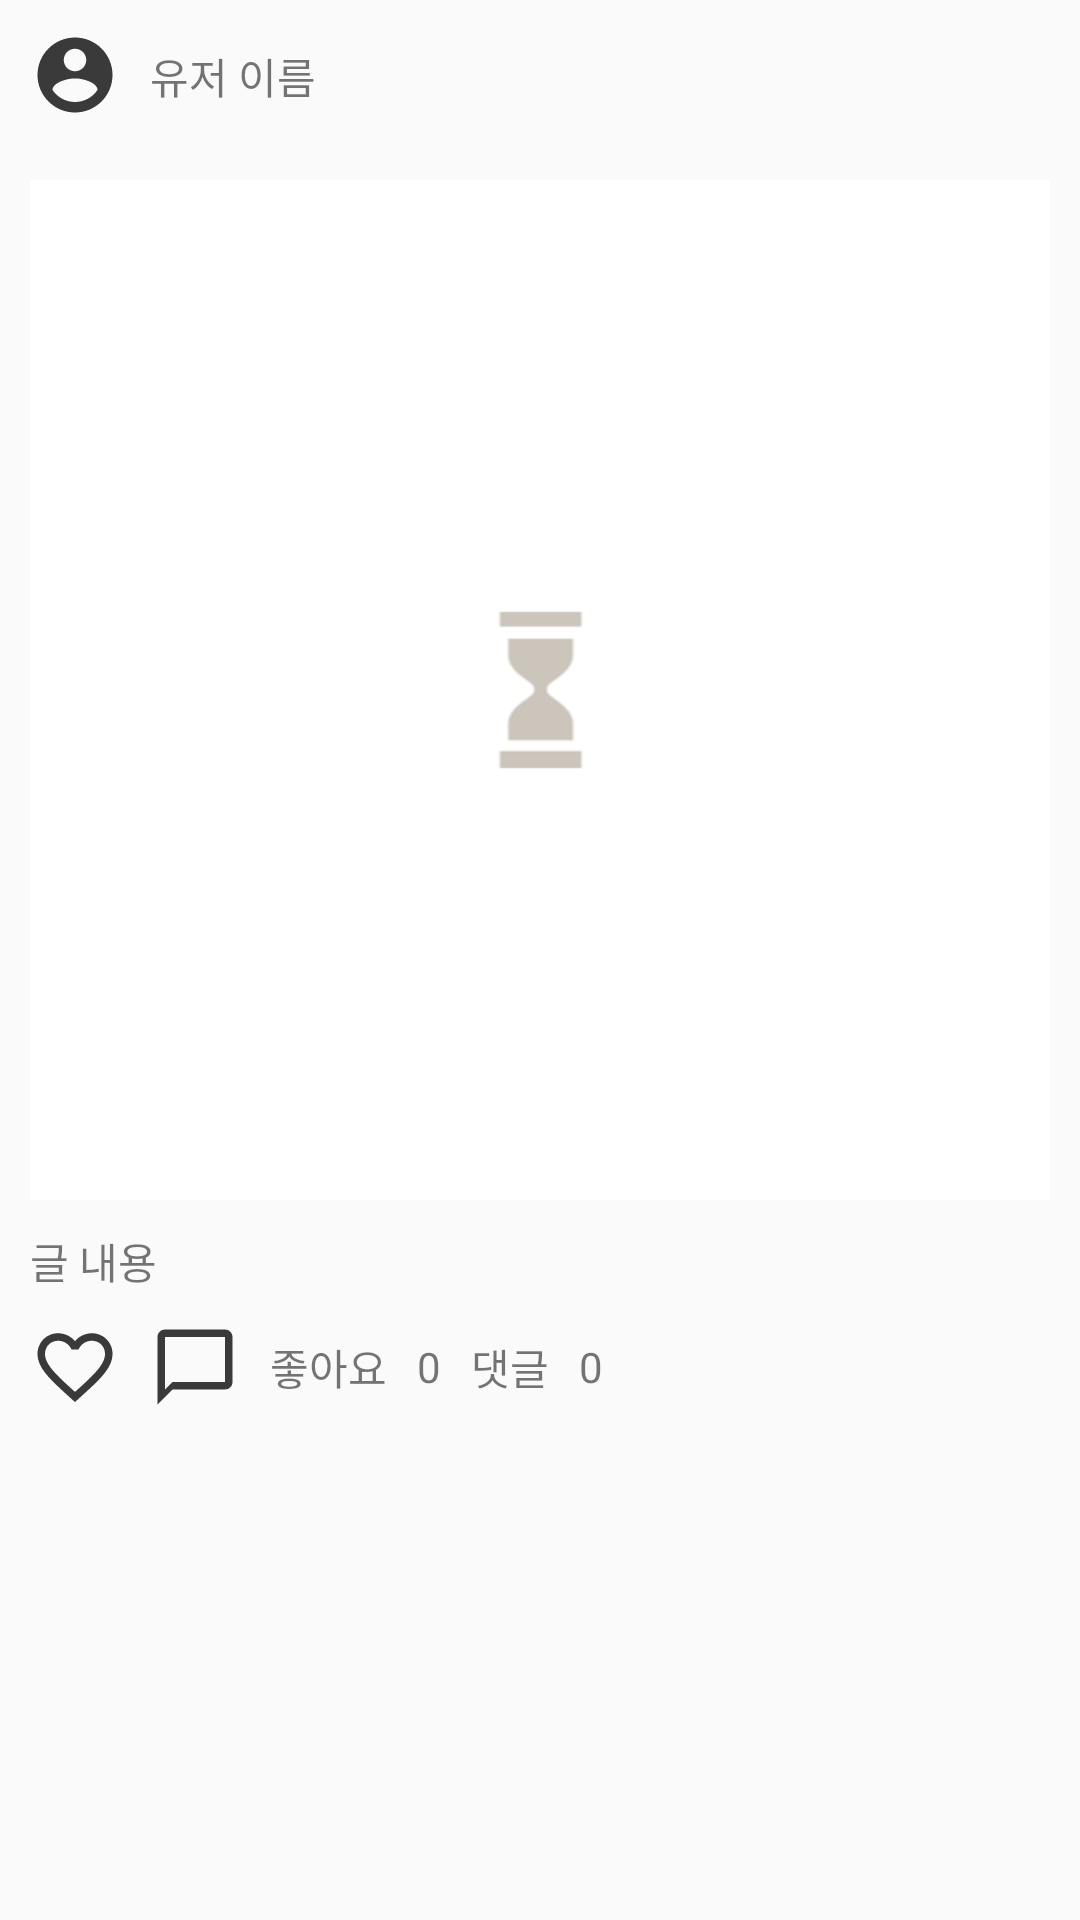

Locate icon controls on the screen. Image size 1080px x 1920px, boxes as bbox(x1, y1, x2, y2).
account circle: bbox(37, 37, 113, 113)
chat bubble: bbox(157, 1329, 233, 1405)
favorite border: bbox(37, 1333, 113, 1402)
